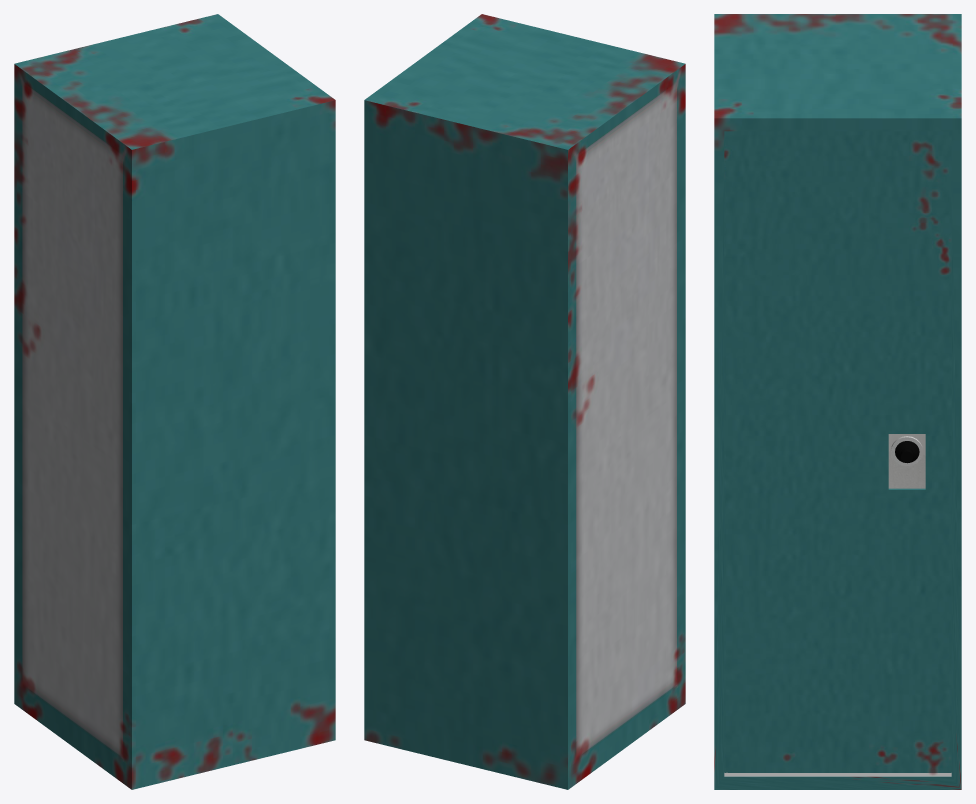
The model's file is Locker.fbx.
3 views of the same model, side by side, from view 1: azimuth 30°, elevation 25°; view 2: azimuth 150°, elevation 25°; view 3: azimuth 270°, elevation 25° (orthographic). The views are drawn at different scales.
Parts seen in each view (by area): view 1: LockerBody1; view 2: LockerBody1; view 3: LockerDoor1, LockerBody1, LockAssembly, LockDial.
Boxes of the visible parts, left/top/right/bottom form: LockerBody1: left=14, top=14, right=335, bottom=789; LockerBody1: left=364, top=14, right=685, bottom=789; LockerDoor1: left=724, top=131, right=951, bottom=776; LockerBody1: left=714, top=14, right=961, bottom=789; LockAssembly: left=888, top=434, right=925, bottom=488; LockDial: left=895, top=441, right=919, bottom=463.
Bounding box in the file's own units: 1.05 × 3 × 1.
4 materials, 3 textured.
